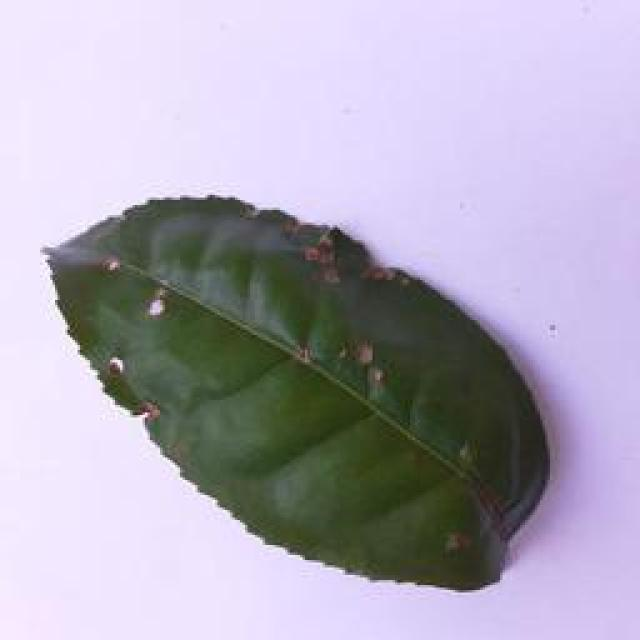Helopeltis: (30, 182, 556, 598)
